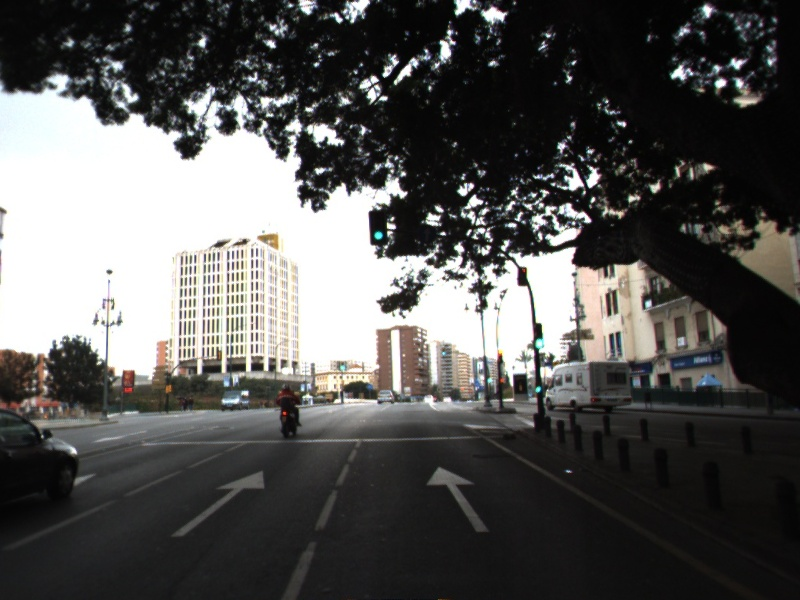STRAIGHT: (168, 468, 269, 539), (424, 464, 492, 535)
